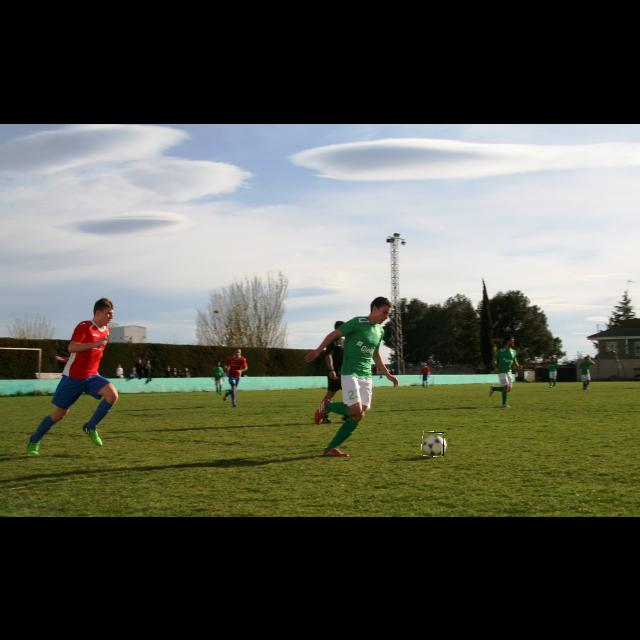Football: (422, 432, 444, 456)
